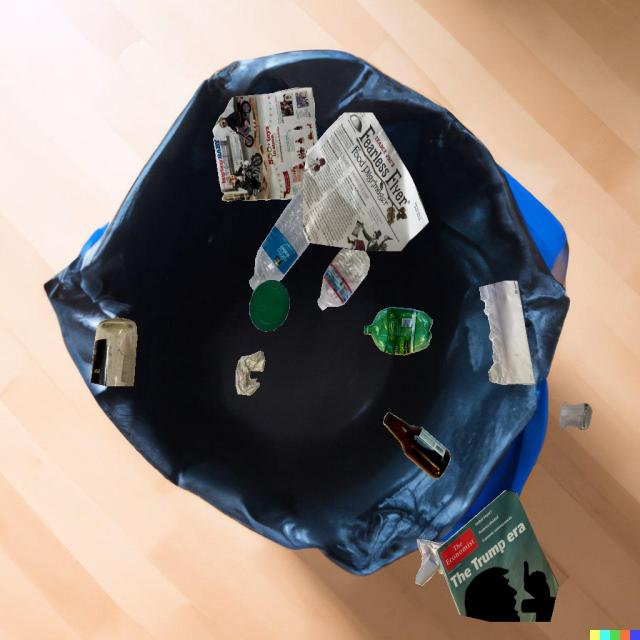glass: (383, 412, 450, 479), (90, 318, 137, 386), (559, 401, 592, 430)
paper: (303, 112, 429, 251), (436, 490, 559, 622), (212, 88, 318, 201), (479, 281, 535, 385), (415, 539, 443, 586), (236, 351, 265, 395)
plastic: (250, 187, 310, 290), (364, 307, 433, 355), (318, 248, 370, 310), (250, 280, 290, 332)
